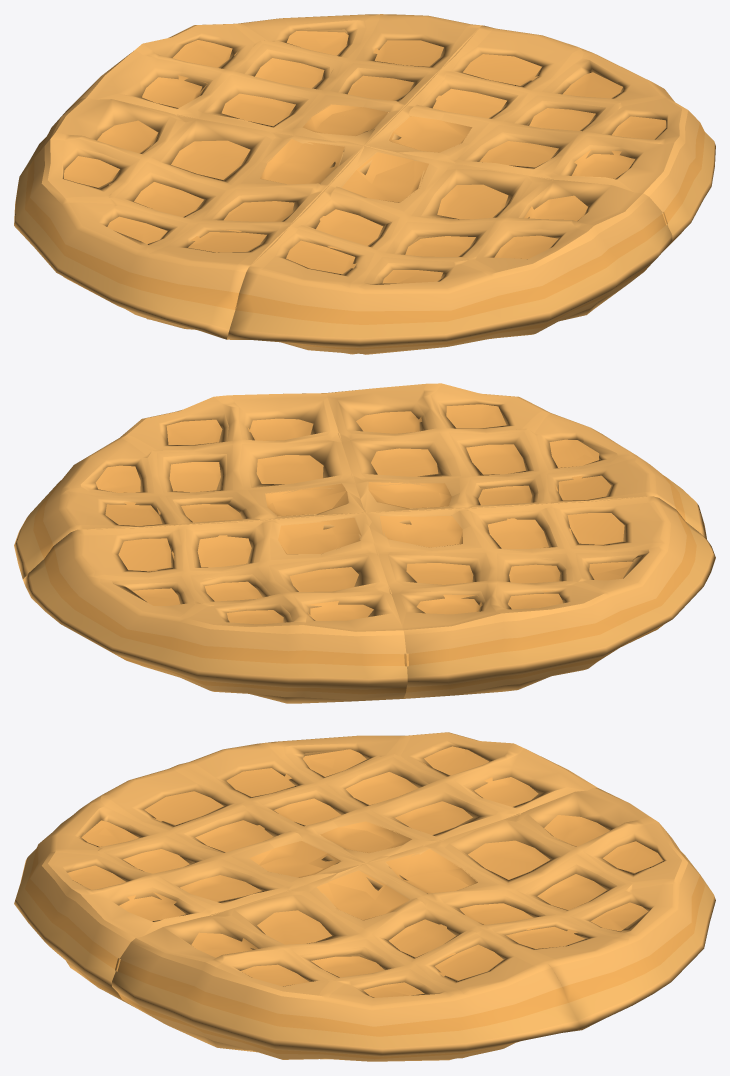
Rendered from pismemis.fbx.
3 renders of one model, top to bottom at view 1: azimuth 30°, elevation 25°; view 2: azimuth 150°, elevation 25°; view 3: azimuth 270°, elevation 25°, orthographic. The views are drawn at different scales.
Parts seen in each view (by area): view 1: WAFFLE.001; view 2: WAFFLE.001; view 3: WAFFLE.001.
Part boxes in pixels (x1,y1,x2,y2): WAFFLE.001: [14, 14, 715, 354]; WAFFLE.001: [14, 383, 715, 703]; WAFFLE.001: [14, 732, 715, 1061].
Bounding box in the file's own units: 2.3 × 0.2875 × 2.27.
